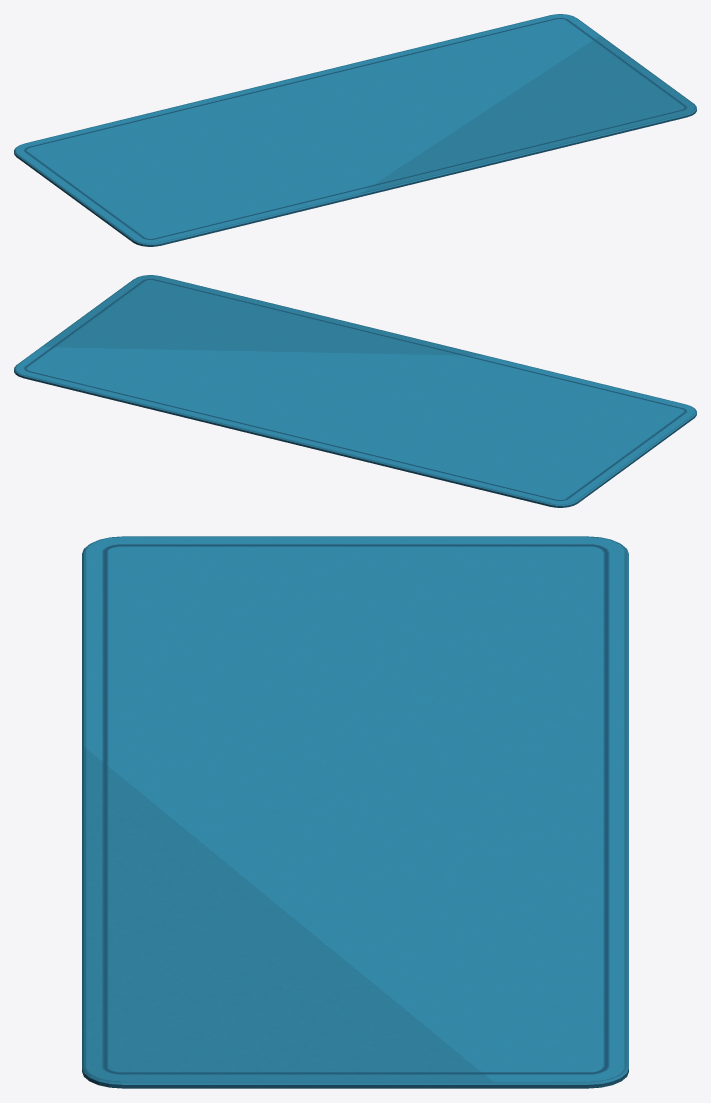
The model's file is deskmat_model.glb.
3 renders of one model, top to bottom at view 1: azimuth 30°, elevation 25°; view 2: azimuth 150°, elevation 25°; view 3: azimuth 270°, elevation 25°, orthographic. The views are drawn at different scales.
Parts seen in each view (by area): view 1: desk_mat; view 2: desk_mat; view 3: desk_mat.
Part boxes in pixels (x1,y1,x2,y2): desk_mat: (14,14,696,246); desk_mat: (14,275,696,507); desk_mat: (82,536,628,1088).
Bounding box in the file's own units: 0.9 × 0.004 × 0.38.
1 material, 1 textured.
